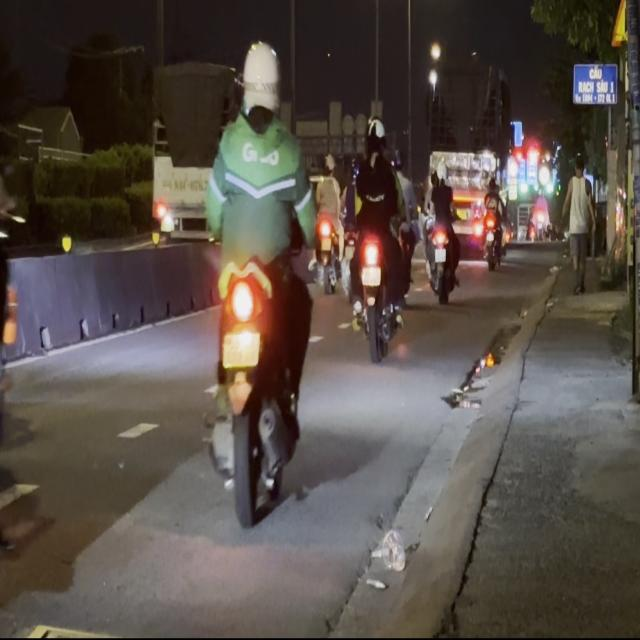helmet: (239, 39, 281, 122), (364, 116, 386, 154)
licenseplate: (198, 37, 316, 525), (346, 113, 411, 359)
nohelmet: (221, 330, 260, 368), (362, 266, 381, 285)
